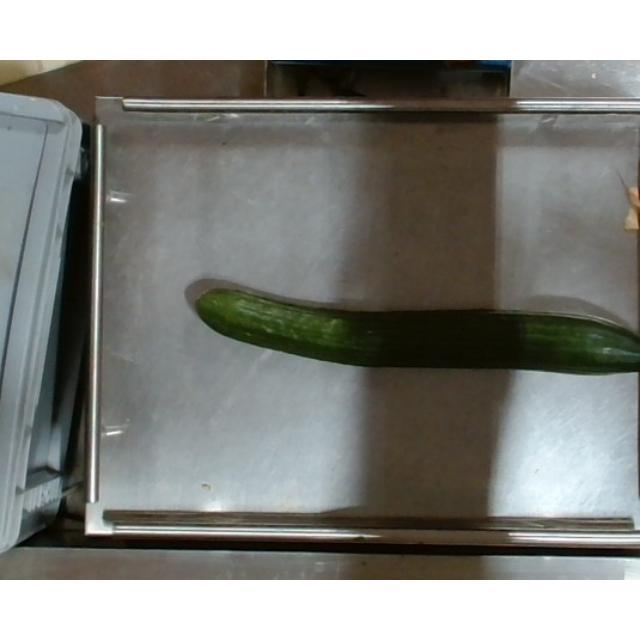cucumber: (194, 278, 640, 379)
